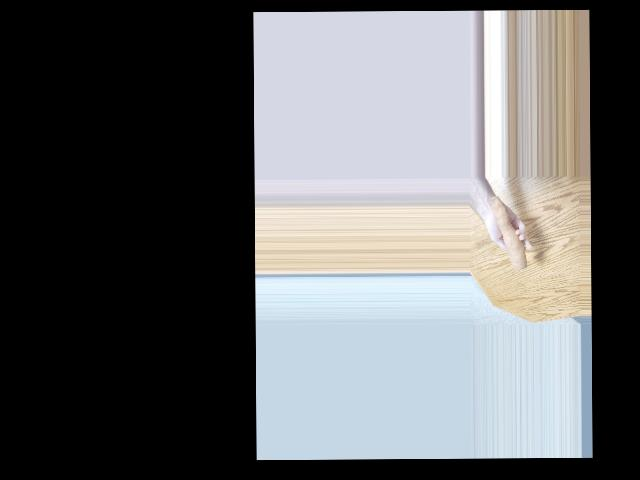sweet_potato: (489, 193, 528, 270)
